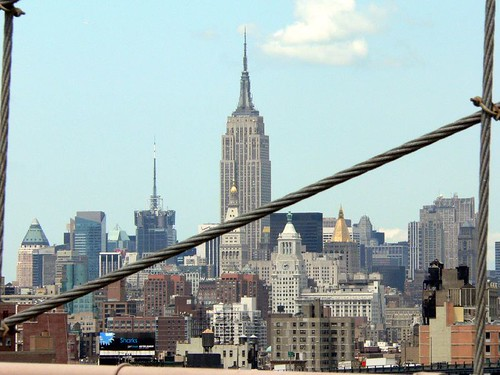building: (218, 44, 275, 236), (419, 278, 495, 375), (270, 311, 375, 375), (414, 195, 479, 282), (107, 314, 192, 369), (267, 228, 307, 312), (211, 304, 263, 368), (67, 213, 108, 288), (17, 204, 53, 288), (132, 205, 176, 260), (146, 274, 188, 317), (218, 269, 262, 305), (308, 251, 346, 290)
sky: (1, 1, 500, 193)
